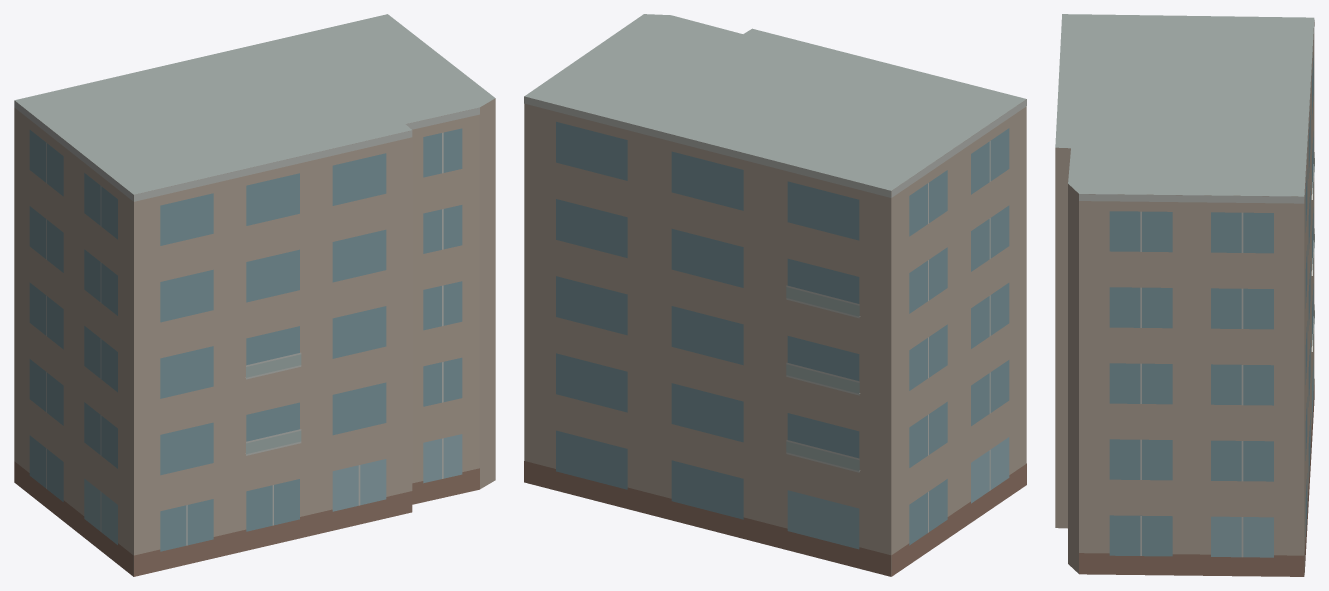
Rendered from survey-upis-32859135.glb.
The picture shows the model from 3 angles, left to right: view 1: azimuth 30°, elevation 25°; view 2: azimuth 150°, elevation 25°; view 3: azimuth 270°, elevation 25°; orthographic projection.
Parts seen in each view (by area): view 1: survey-upis-32859135.tmp; view 2: survey-upis-32859135.tmp; view 3: survey-upis-32859135.tmp.
Part boxes in pixels (x1=…): survey-upis-32859135.tmp: x1=14, y1=14, x2=495, y2=576; survey-upis-32859135.tmp: x1=524, y1=14, x2=1026, y2=576; survey-upis-32859135.tmp: x1=1055, y1=14, x2=1314, y2=576.
Bounding box in the file's own units: 13.49 × 13.1 × 8.11.
